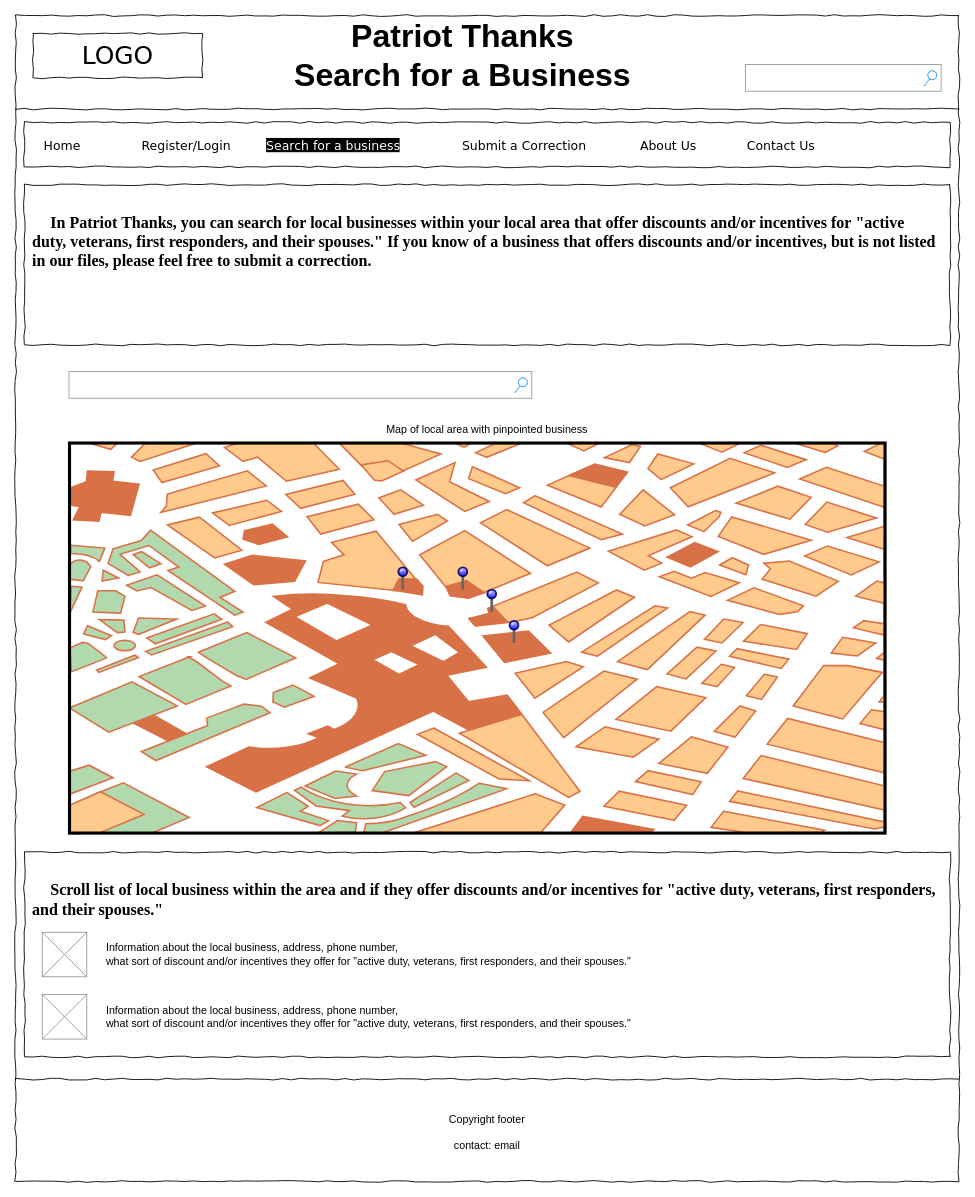
This 975x1197 diagram has some shape labels left out. Here are the shapes that lost their labels. From the top down, the centre of each, then its label:
At [842,77]: "Search".
At [300,384]: "Search by business name or city, state, zip".
